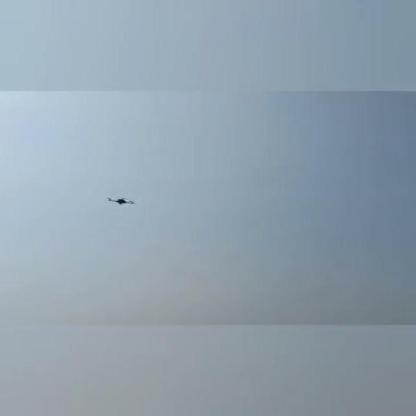drone: (108, 197, 134, 207)
